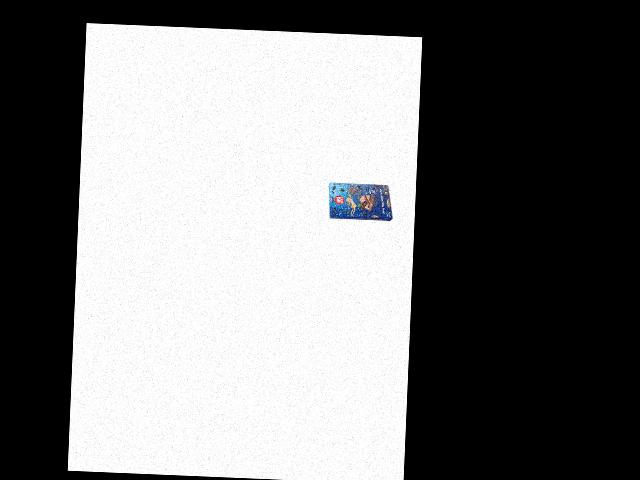chocolate: (326, 177, 394, 225)
